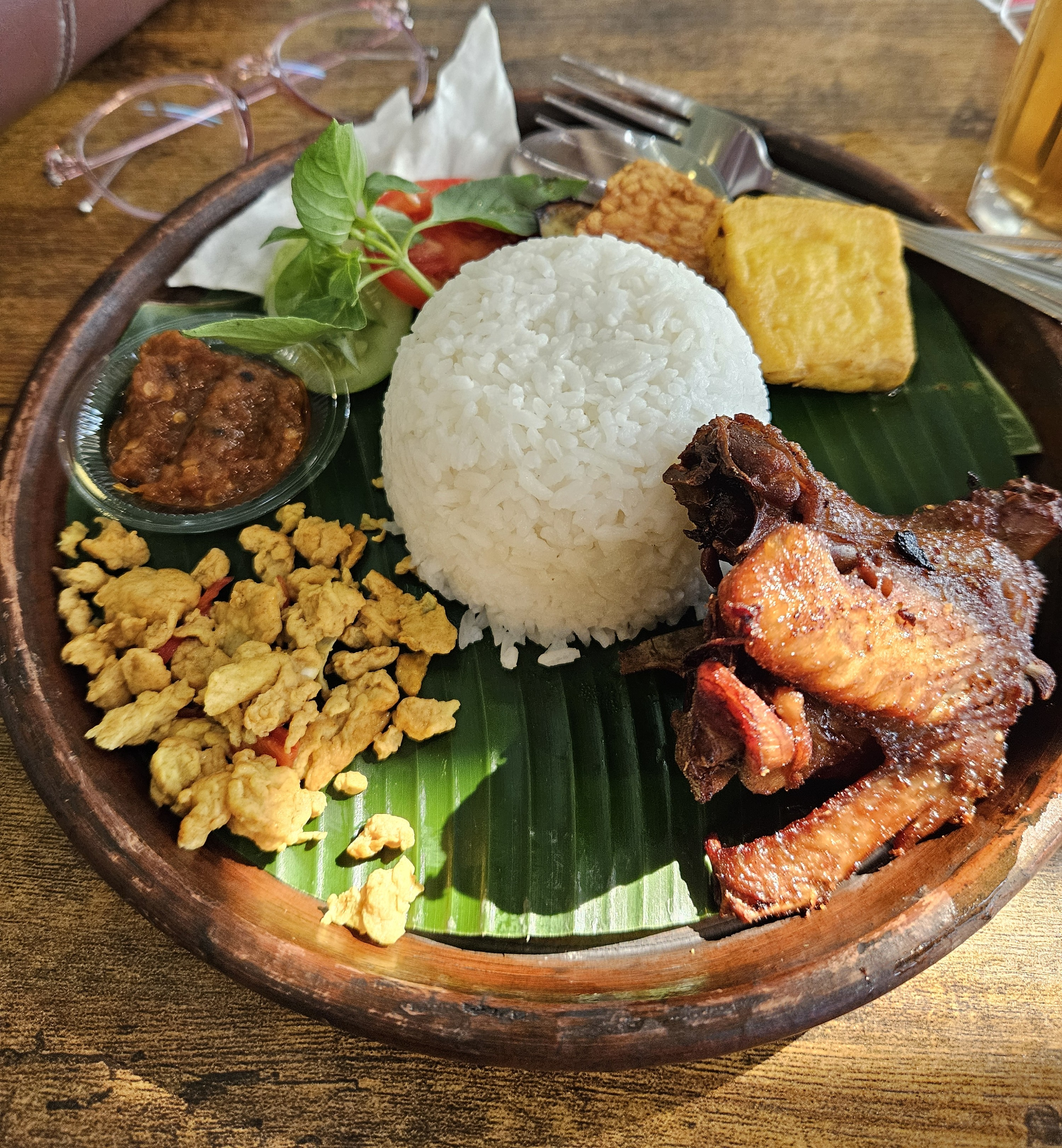buah_sayur_lainnya: (202, 124, 423, 343)
daging: (694, 428, 1021, 912)
kacang_legume: (720, 189, 927, 412), (582, 154, 733, 255)
makanan_berpati: (419, 265, 696, 604)
